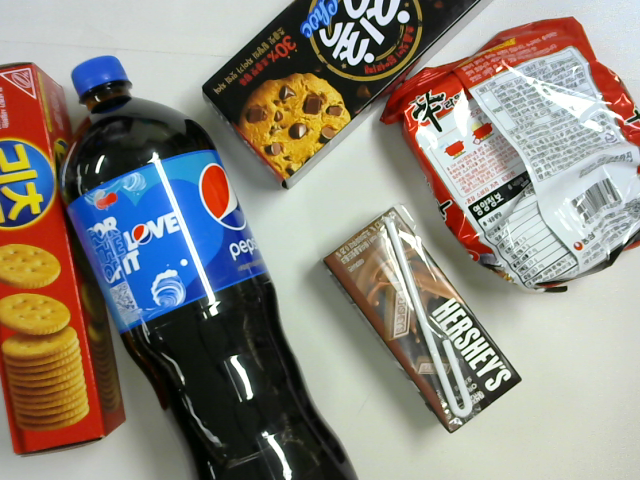Chicchok_Original_2400: (212, 1, 481, 196)
Hush_Choco_Drink: (332, 208, 516, 441)
Pepsi_Cola_1.5L: (63, 57, 349, 480)
Ritz_Cracker: (1, 53, 98, 433)
Sinramen: (389, 30, 640, 289)
